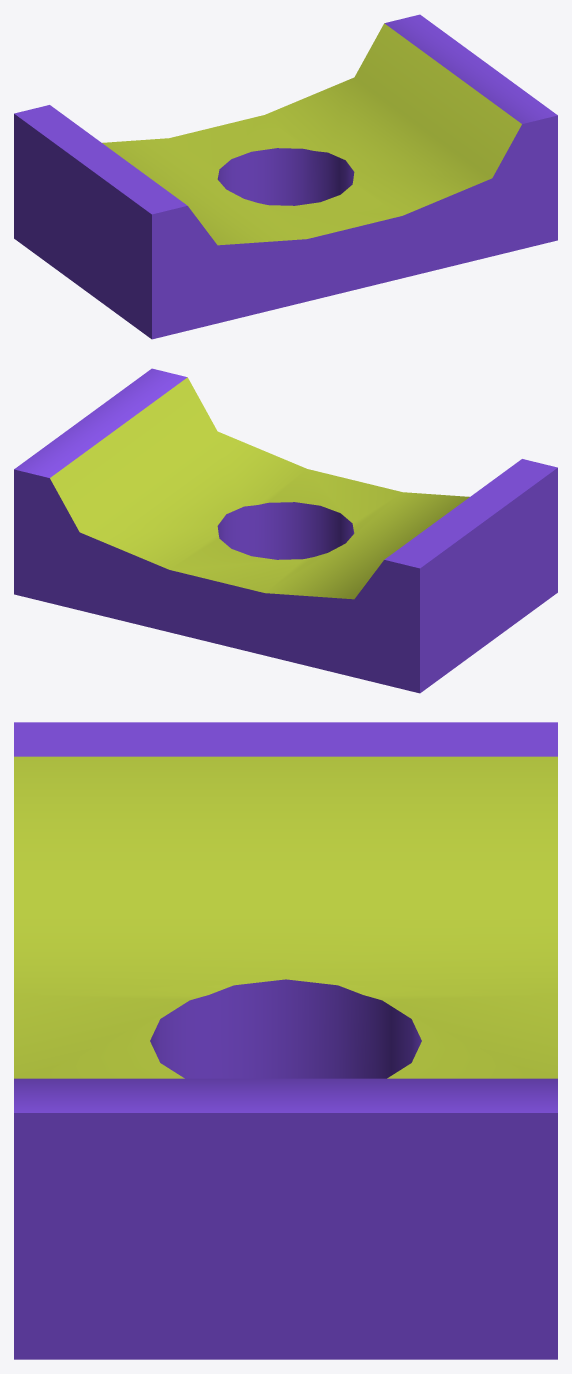
File: straight_wide_hole-col.dae
The picture shows the model from 3 angles, top to bottom: view 1: azimuth 30°, elevation 25°; view 2: azimuth 150°, elevation 25°; view 3: azimuth 270°, elevation 25°; orthographic projection. The views are drawn at different scales.
Visible parts, largest first — view 1: straight_wide_hole-col; view 2: straight_wide_hole-col; view 3: straight_wide_hole-col.
Part boxes in pixels (bbox=[...]): straight_wide_hole-col: bbox=[14, 14, 557, 339]; straight_wide_hole-col: bbox=[14, 368, 557, 693]; straight_wide_hole-col: bbox=[14, 722, 557, 1359].
Bounding box in the file's own units: 1.7 × 1 × 0.5.
